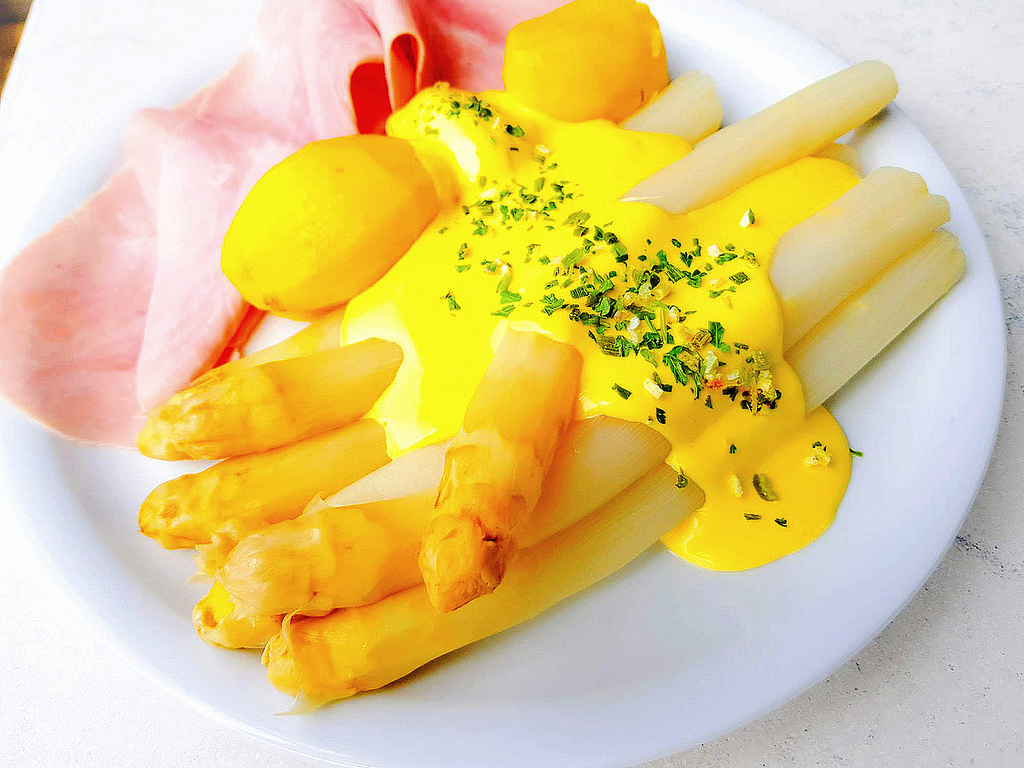boiled potatoes: (224, 139, 444, 308), (496, 5, 682, 126)
